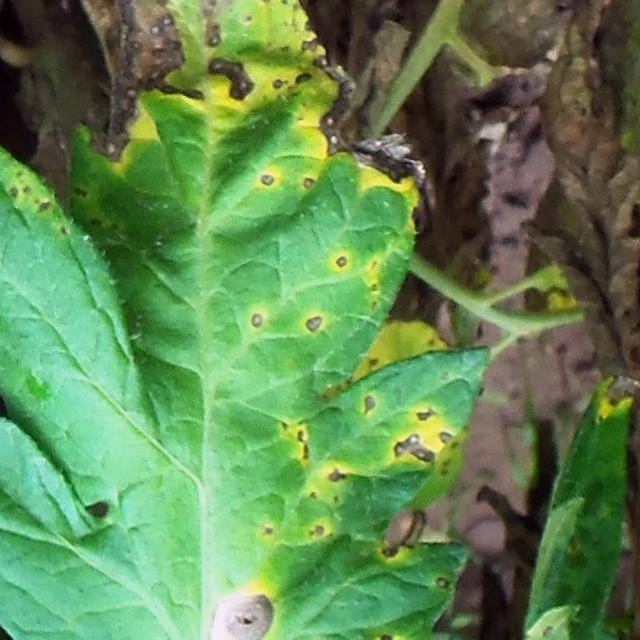Tomato Septoria leaf spot: (0, 0, 497, 640)
